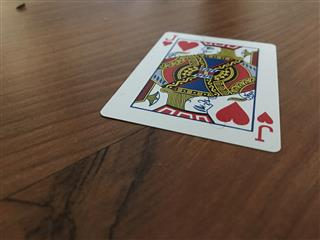JackOfHearts: (99, 31, 281, 153)
